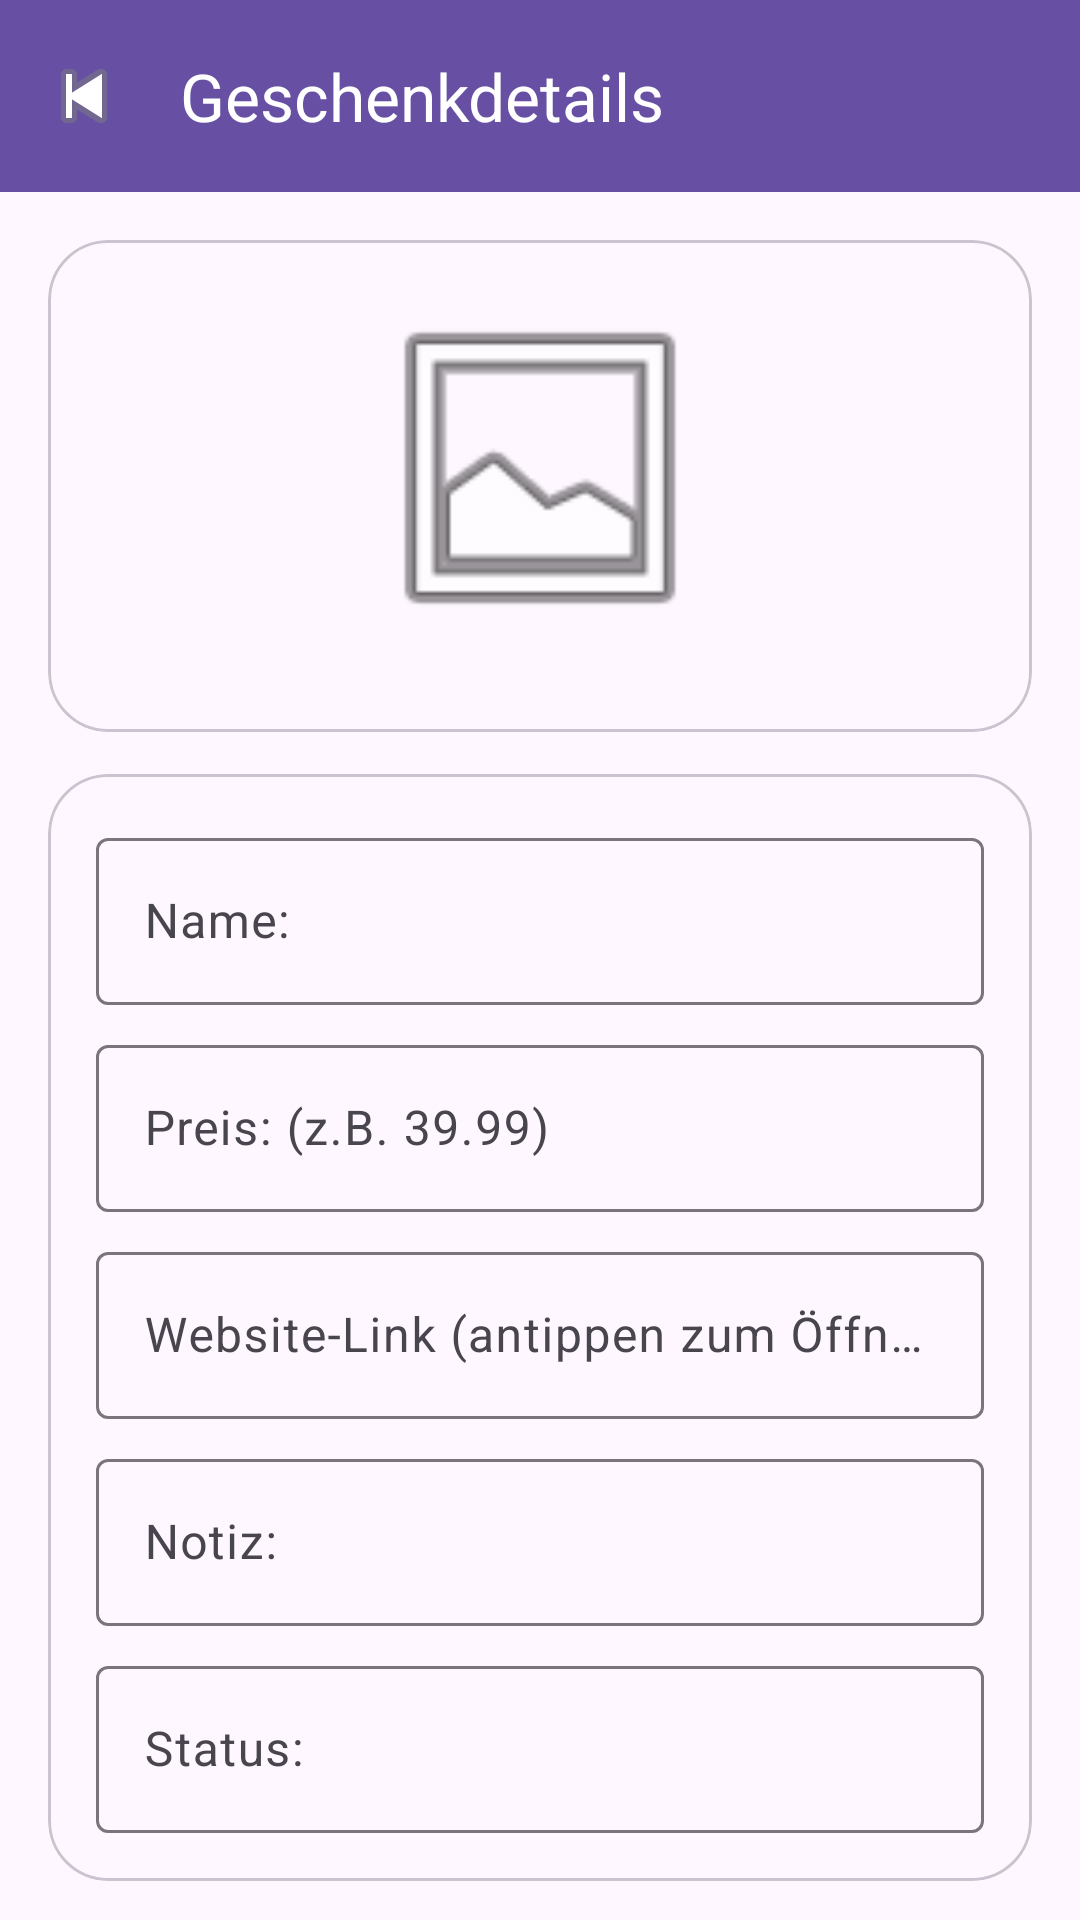

Screen size 1080x1920. Icon name, then its center in pixels as (x=x, y=y):
gallery: (x=540, y=468)
